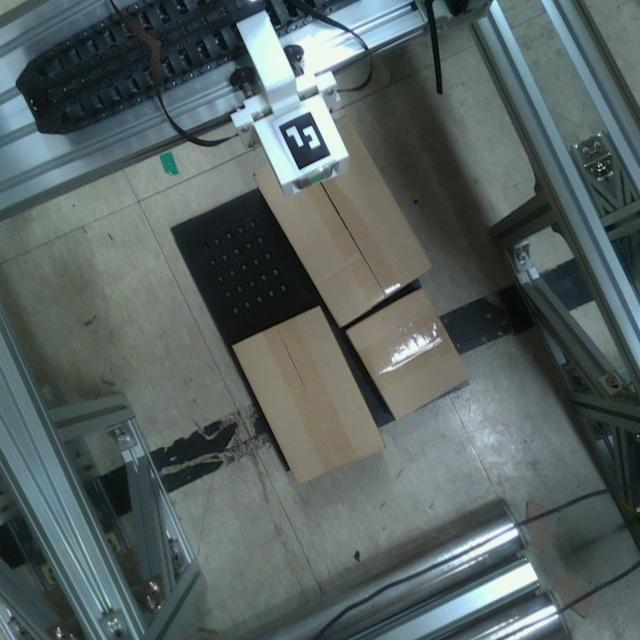box: (224, 297, 392, 493), (337, 278, 482, 431)
